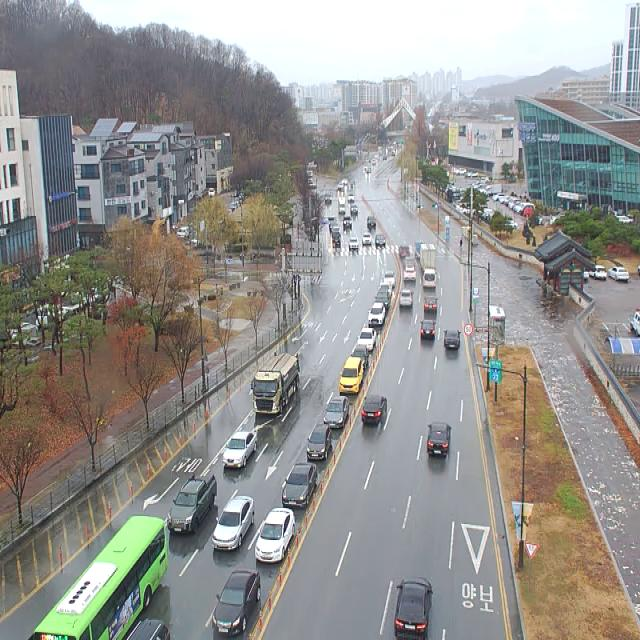Bus: (34, 516, 168, 640)
Car: (212, 568, 260, 634), (168, 474, 217, 532), (394, 577, 434, 640), (211, 495, 254, 550), (254, 507, 294, 563), (282, 462, 316, 507), (223, 432, 256, 468), (306, 423, 332, 460), (126, 619, 171, 640), (339, 357, 364, 392), (428, 422, 452, 456), (324, 396, 348, 428), (361, 396, 387, 423), (357, 327, 376, 351), (352, 344, 368, 370), (368, 303, 385, 324), (444, 329, 461, 349), (420, 320, 436, 340), (376, 288, 391, 309), (608, 267, 629, 281), (588, 266, 607, 280), (424, 296, 438, 314), (400, 289, 413, 307), (403, 264, 416, 281), (384, 271, 395, 288), (380, 282, 392, 296), (177, 226, 189, 238), (348, 237, 358, 251), (400, 245, 410, 258), (375, 234, 385, 247), (367, 216, 376, 230), (362, 233, 372, 245), (338, 197, 345, 214), (415, 243, 423, 257), (332, 232, 341, 244), (344, 217, 352, 228), (350, 204, 358, 215), (330, 222, 338, 232), (325, 193, 332, 204), (209, 187, 215, 197), (332, 226, 338, 235), (348, 195, 354, 202), (638, 264, 640, 276)
Truck: (251, 352, 299, 414), (420, 243, 436, 271), (630, 309, 640, 336)
